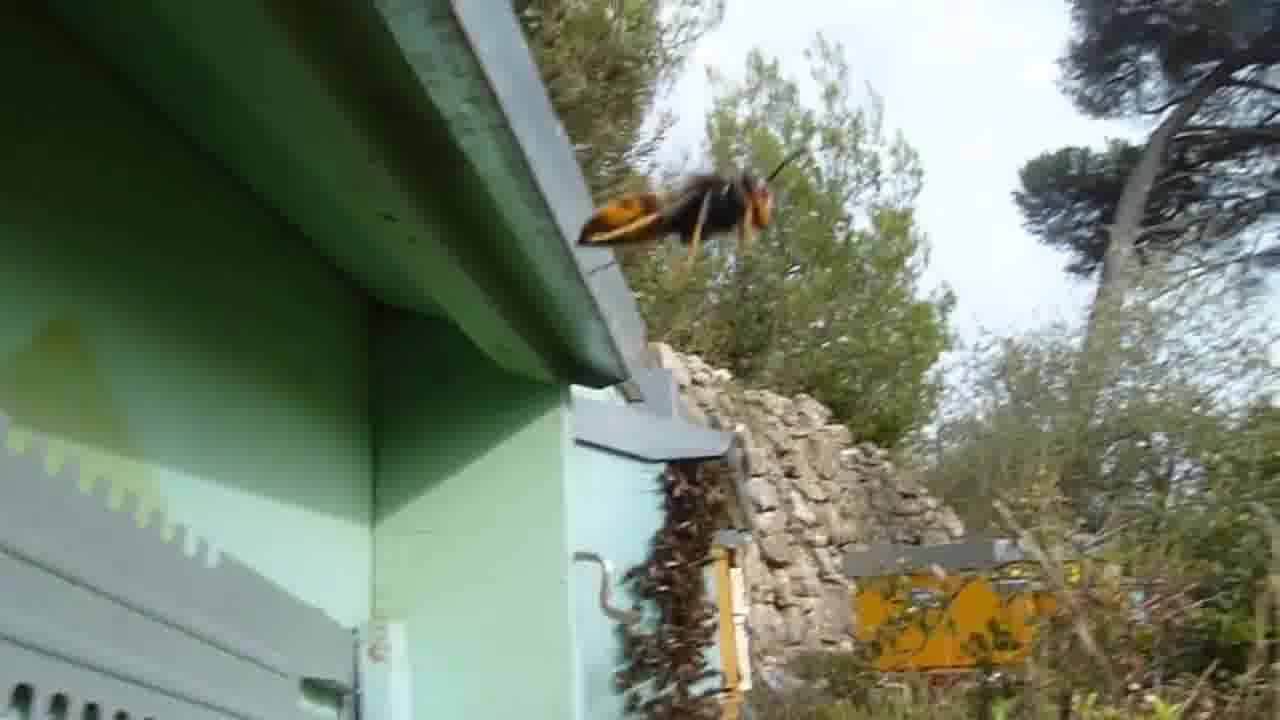bee: (647, 464, 729, 552), (615, 630, 717, 697), (613, 554, 714, 612)
hornet: (571, 162, 788, 271)
